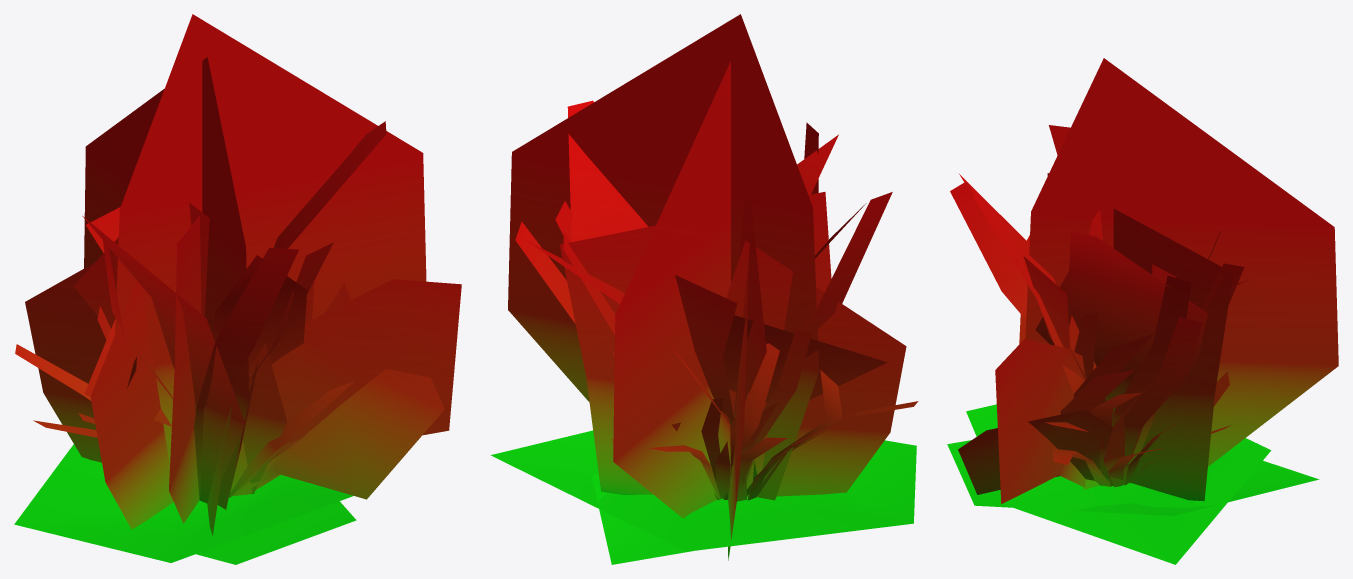
File: tlijciuia_Var2_LOD0.fbx
3 views of the same model, side by side, from view 1: azimuth 30°, elevation 25°; view 2: azimuth 150°, elevation 25°; view 3: azimuth 270°, elevation 25° (orthographic). The views are drawn at different scales.
Parts seen in each view (by area): view 1: _221e_Var2_LOD0; view 2: _221e_Var2_LOD0; view 3: _221e_Var2_LOD0.
Boxes of the visible parts, box(x1,y1,x2,y2) form: _221e_Var2_LOD0: box(14, 14, 461, 564); _221e_Var2_LOD0: box(490, 14, 918, 564); _221e_Var2_LOD0: box(947, 58, 1338, 564).
Bounding box in the file's own units: 14.13 × 16.89 × 12.3.
